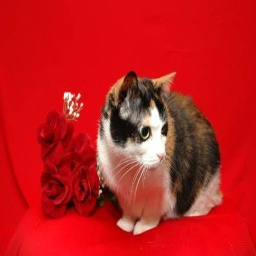cat: (94, 69, 227, 237)
